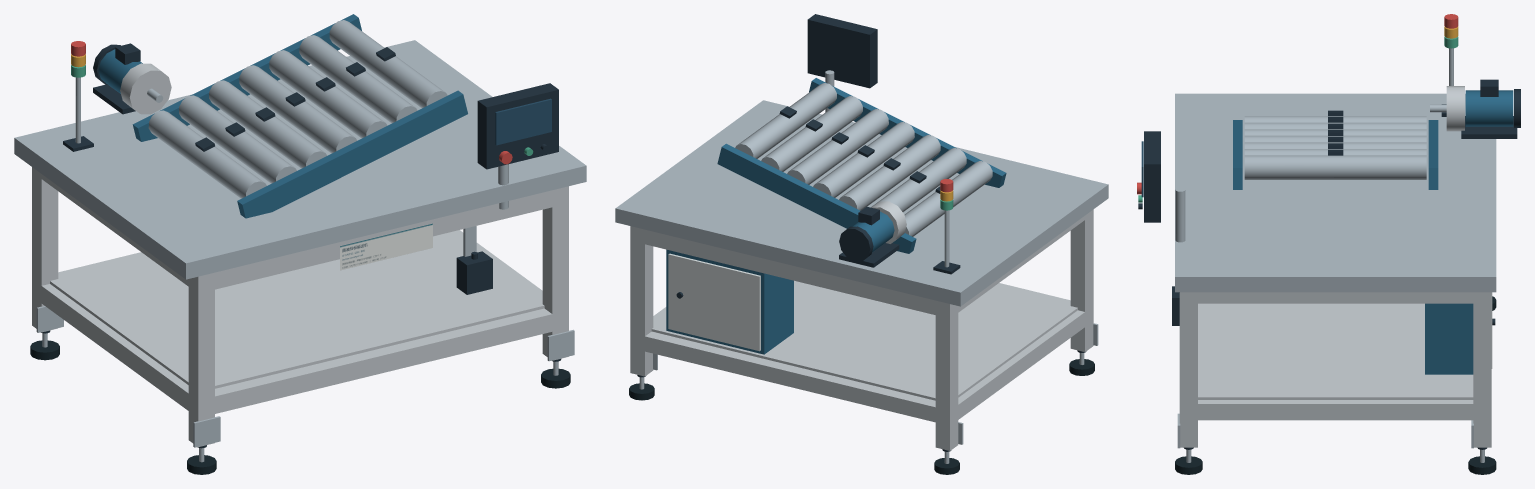
Rendered from incline-conveyor-cell.glb.
3 views of the same model, side by side, from view 1: azimuth 30°, elevation 25°; view 2: azimuth 150°, elevation 25°; view 3: azimuth 270°, elevation 25° (orthographic). The views are drawn at different scales.
Parts seen in each view (by area): view 1: ClosedMachineBed_28, LowerShelf_29, SlottedExtrusion_22, TransportRail_49, SlottedExtrusion_23, SlottedExtrusion_24, SlottedExtrusion_8, ConsoleBack_34, SlottedExtrusion_18, TransportRoller_56, TransportRoller_50, TransportRoller_54 (+14 smaller); view 2: ClosedMachineBed_28, LowerShelf_29, BackDoor_31, SlottedExtrusion_20, SlottedExtrusion_21, ConsoleBack_34, TransportRail_48, SlottedExtrusion_3, Cabinet_30, SlottedExtrusion_13, SlottedExtrusion_24, SlottedExtrusion_8 (+13 smaller); view 3: ClosedMachineBed_28, LowerShelf_29, SlottedExtrusion_26, TransportRoller_56, Cabinet_30, SlottedExtrusion_27, SlottedExtrusion_18, SlottedExtrusion_13, MotorBody_65, ConsoleBack_34, TransportRoller_51, TransportRoller_53 (+11 smaller).
Part boxes in pixels (x1,y1,x2,y2): ClosedMachineBed_28: (14,40,586,279); LowerShelf_29: (50,231,544,388); SlottedExtrusion_22: (206,308,552,415); TransportRail_49: (237,90,467,218); SlottedExtrusion_23: (206,190,552,291); SlottedExtrusion_24: (39,284,193,413); SlottedExtrusion_8: (188,272,214,447); ConsoleBack_34: (477,83,558,169); SlottedExtrusion_18: (542,186,568,360); TransportRoller_56: (329,20,447,108); TransportRoller_50: (148,110,266,198); TransportRoller_54: (269,50,387,138); ClosedMachineBed_28: (615,100,1108,306); LowerShelf_29: (651,280,1077,400); BackDoor_31: (668,253,760,351); SlottedExtrusion_20: (637,331,940,422); SlottedExtrusion_21: (638,229,942,315); ConsoleBack_34: (807,14,877,88); TransportRail_48: (717,143,916,253); SlottedExtrusion_3: (935,300,958,450); Cabinet_30: (666,249,793,354); SlottedExtrusion_13: (630,226,653,376); SlottedExtrusion_24: (954,310,1089,422); SlottedExtrusion_8: (1070,209,1093,351); ClosedMachineBed_28: (1175,93,1496,292); LowerShelf_29: (1198,303,1473,399); SlottedExtrusion_26: (1188,400,1482,420); TransportRoller_56: (1244,155,1426,179); Cabinet_30: (1425,303,1473,374); SlottedExtrusion_27: (1188,292,1482,303); SlottedExtrusion_18: (1179,292,1197,447); SlottedExtrusion_13: (1473,292,1491,447); MotorBody_65: (1465,90,1513,126); ConsoleBack_34: (1144,131,1160,222); TransportRoller_51: (1244,122,1426,129); TransportRoller_53: (1244,135,1426,142).
Bounding box in the file's own units: 1.55 × 1.18 × 1.37.
11 materials, 1 textured.
